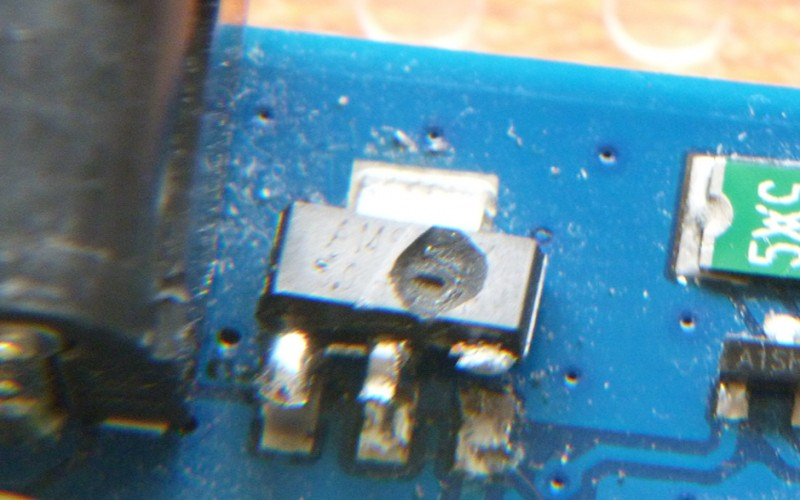Regulator: (0, 0, 799, 499)
